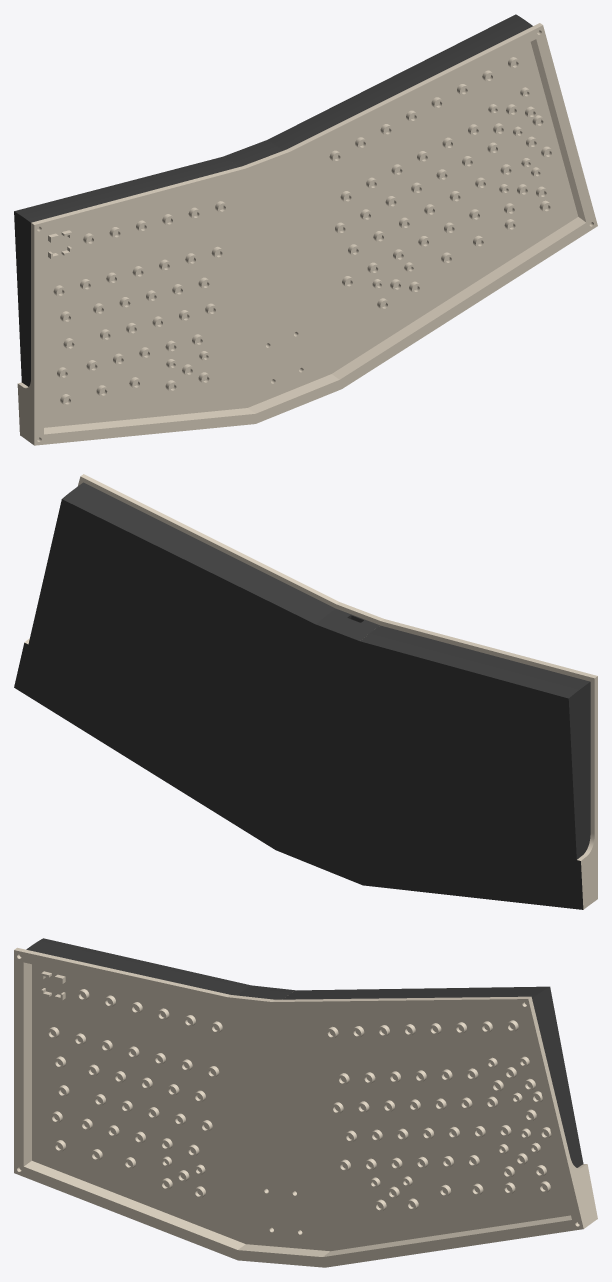
File: bottomside.obj
3 renders of one model, top to bottom at view 1: azimuth 30°, elevation 25°; view 2: azimuth 150°, elevation 25°; view 3: azimuth 330°, elevation 25°, orthographic.
Parts seen in each view (by area): view 1: Corpo1; view 2: Corpo1; view 3: Corpo1.
Part boxes in pixels (bbox=[...]): Corpo1: bbox=[14, 14, 597, 445]; Corpo1: bbox=[14, 474, 597, 909]; Corpo1: bbox=[14, 938, 597, 1267].
Bounding box in the file's own units: 408 × 227 × 30.88.
